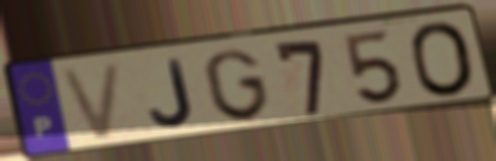5: (339, 28, 405, 105)
7: (271, 38, 326, 118)
G: (200, 46, 274, 123)
J: (147, 56, 198, 130)
O: (406, 19, 480, 99)
V: (55, 59, 126, 146)
